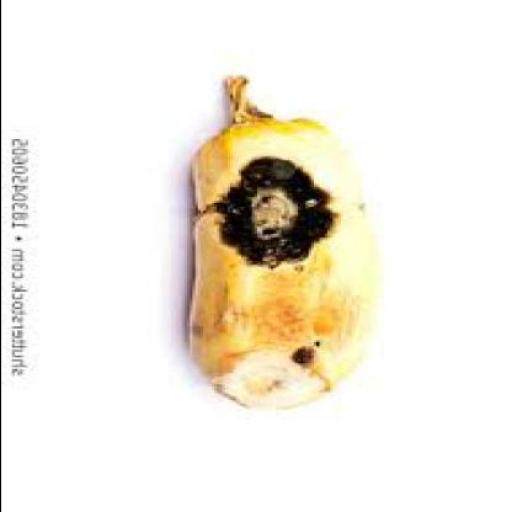biodegradable: (195, 80, 374, 410)
